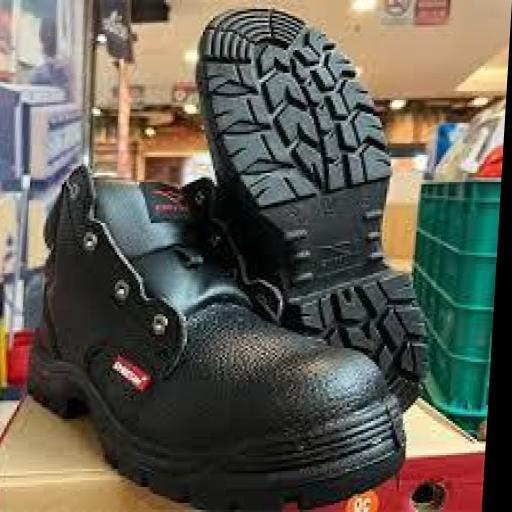safety_boots: (40, 172, 408, 510), (192, 6, 400, 257)
